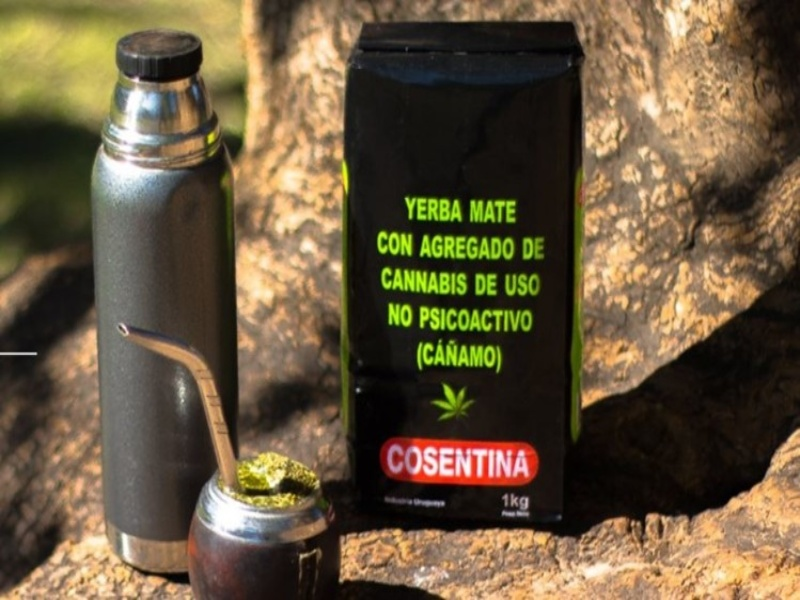guampa: (109, 321, 367, 600)
